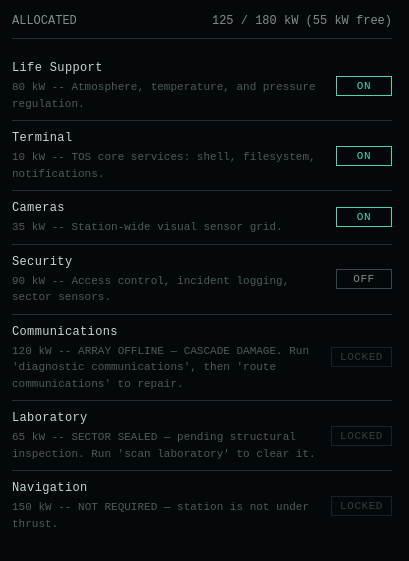
Test: PowerApp › denies enabling Security while there isn't enough headroom
The image size is (409, 561).
Step 1. Click the button "OFF" → (364, 279), box [336, 269, 392, 289]
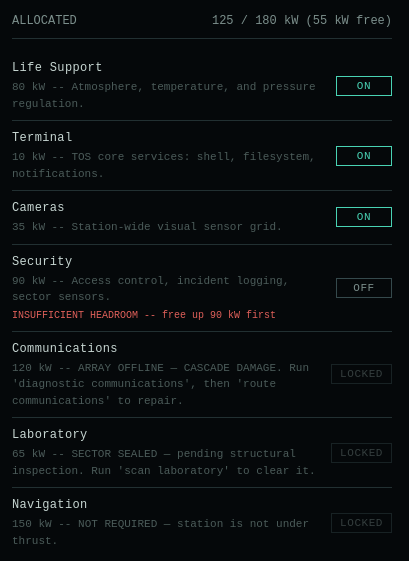
Expected: the button "OFF" is shown, [336, 278, 392, 298]
Expected: the text "INSUFFICIENT HEADROOM -- free up 90 kW first" is shown, [12, 310, 276, 320]
